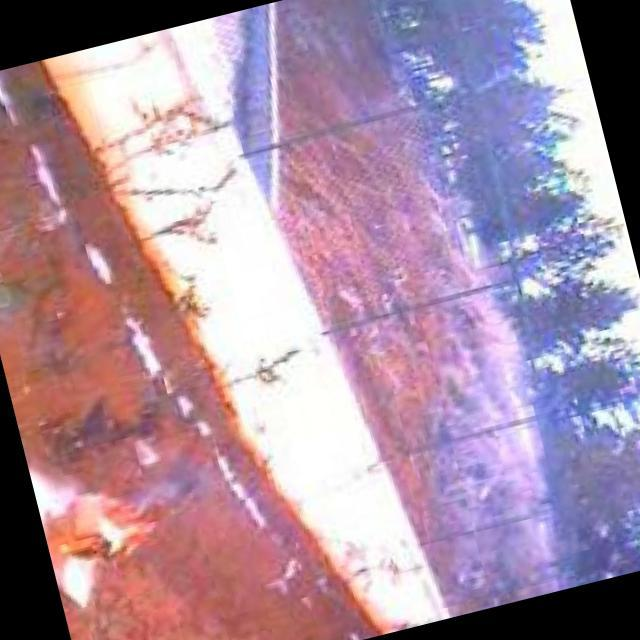Fire: (37, 466, 208, 577)
